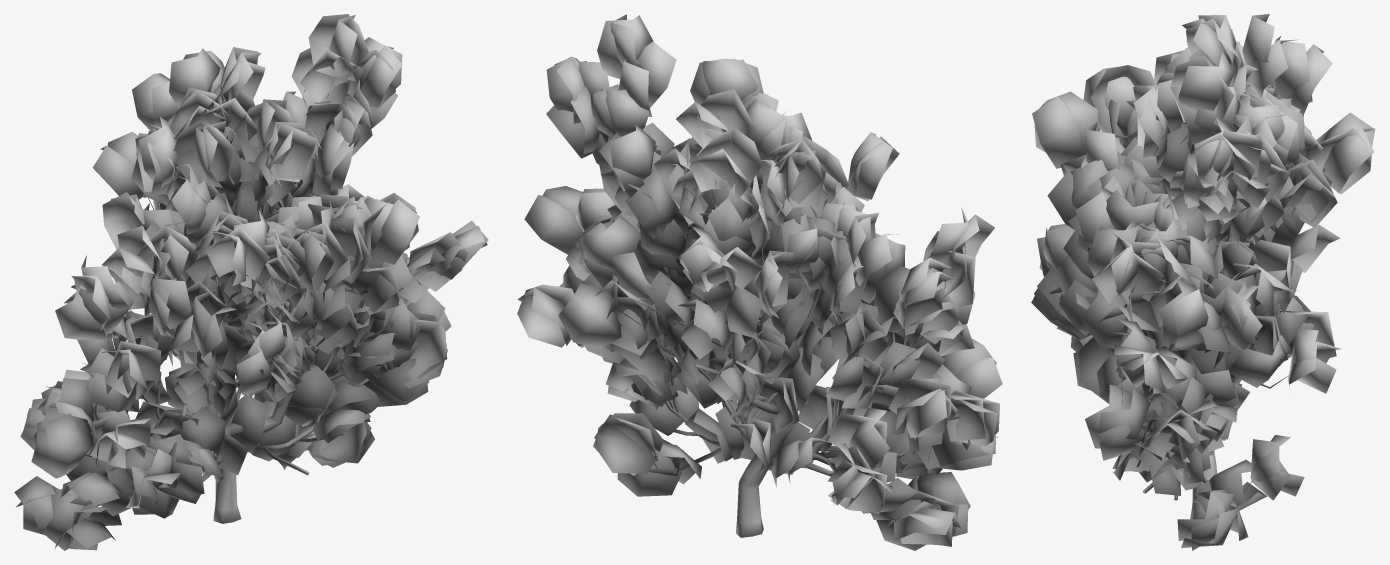
File: SycamoreMiddleEastern_C.fbx
3 renders of one model, left to right at view 1: azimuth 30°, elevation 25°; view 2: azimuth 150°, elevation 25°; view 3: azimuth 270°, elevation 25°, orthographic. The views are drawn at different scales.
Visible parts, largest first — view 1: SycamoreMiddleEastern_C_LOD0; view 2: SycamoreMiddleEastern_C_LOD0; view 3: SycamoreMiddleEastern_C_LOD0.
Boxes of the visible parts, x1=… form: SycamoreMiddleEastern_C_LOD0: x1=14, y1=14, x2=488, y2=550; SycamoreMiddleEastern_C_LOD0: x1=517, y1=14, x2=1002, y2=550; SycamoreMiddleEastern_C_LOD0: x1=1031, y1=14, x2=1375, y2=550.
Size of the model in its own units: 1340 by 1334 by 794.
